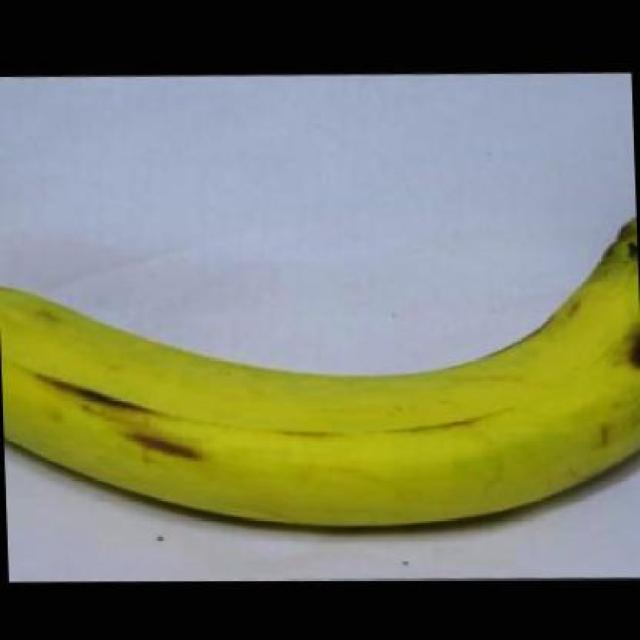ripe: (0, 143, 640, 602)
